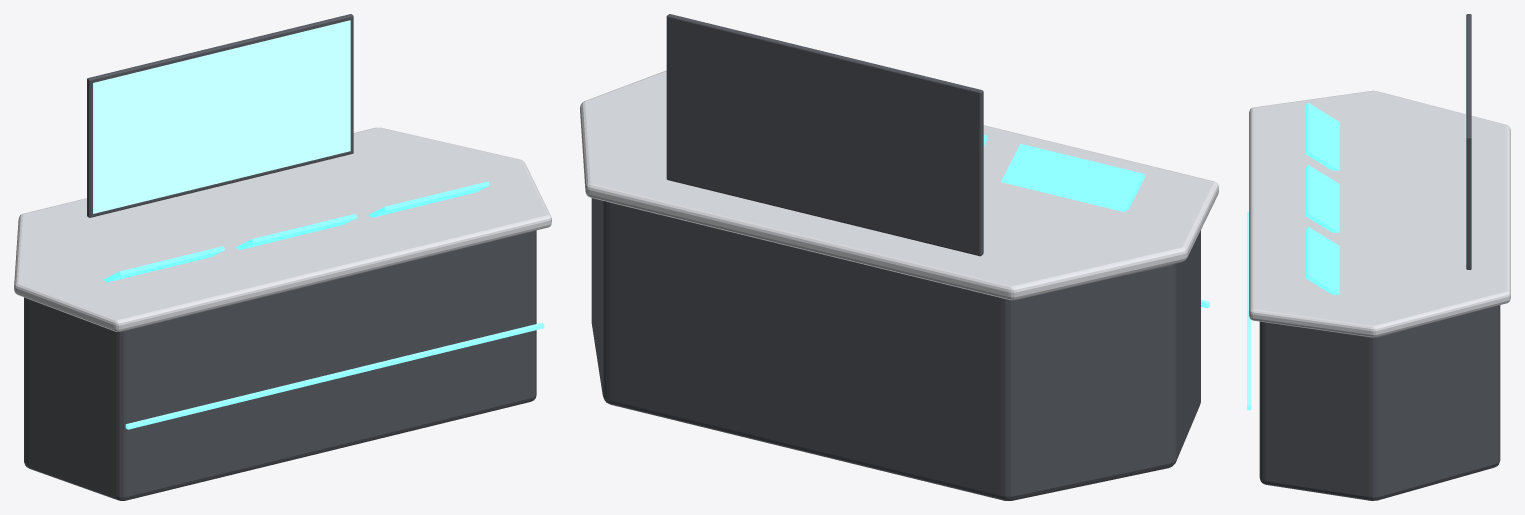
File: command_console_bridge_main.glb
3 renders of one model, left to right at view 1: azimuth 30°, elevation 25°; view 2: azimuth 150°, elevation 25°; view 3: azimuth 270°, elevation 25°, orthographic. The views are drawn at different scales.
Visible parts, largest first — view 1: GD_command_console_bridge_main__m0, GD_command_console_bridge_main__m1, GD_command_console_bridge_main__m3, GD_command_console_bridge_main__m2, GD_command_console_bridge_main__m4; view 2: GD_command_console_bridge_main__m0, GD_command_console_bridge_main__m1, GD_command_console_bridge_main__m2; view 3: GD_command_console_bridge_main__m1, GD_command_console_bridge_main__m0, GD_command_console_bridge_main__m2, GD_command_console_bridge_main__m4, GD_command_console_bridge_main__m3.
Part boxes in pixels (box(x1,y1,x2,y2)): GD_command_console_bridge_main__m0: box(24, 14, 536, 500); GD_command_console_bridge_main__m1: box(14, 127, 551, 331); GD_command_console_bridge_main__m3: box(93, 20, 350, 213); GD_command_console_bridge_main__m2: box(103, 181, 489, 282); GD_command_console_bridge_main__m4: box(125, 322, 544, 429); GD_command_console_bridge_main__m0: box(591, 14, 1200, 500); GD_command_console_bridge_main__m1: box(580, 70, 1218, 300); GD_command_console_bridge_main__m2: box(983, 135, 1145, 212); GD_command_console_bridge_main__m1: box(1249, 90, 1510, 337); GD_command_console_bridge_main__m0: box(1259, 14, 1500, 500); GD_command_console_bridge_main__m2: box(1305, 102, 1339, 294); GD_command_console_bridge_main__m4: box(1247, 211, 1251, 410); GD_command_console_bridge_main__m3: box(1465, 19, 1466, 264).
Bounding box in the file's own units: 2.69 × 1.65 × 1.26.
